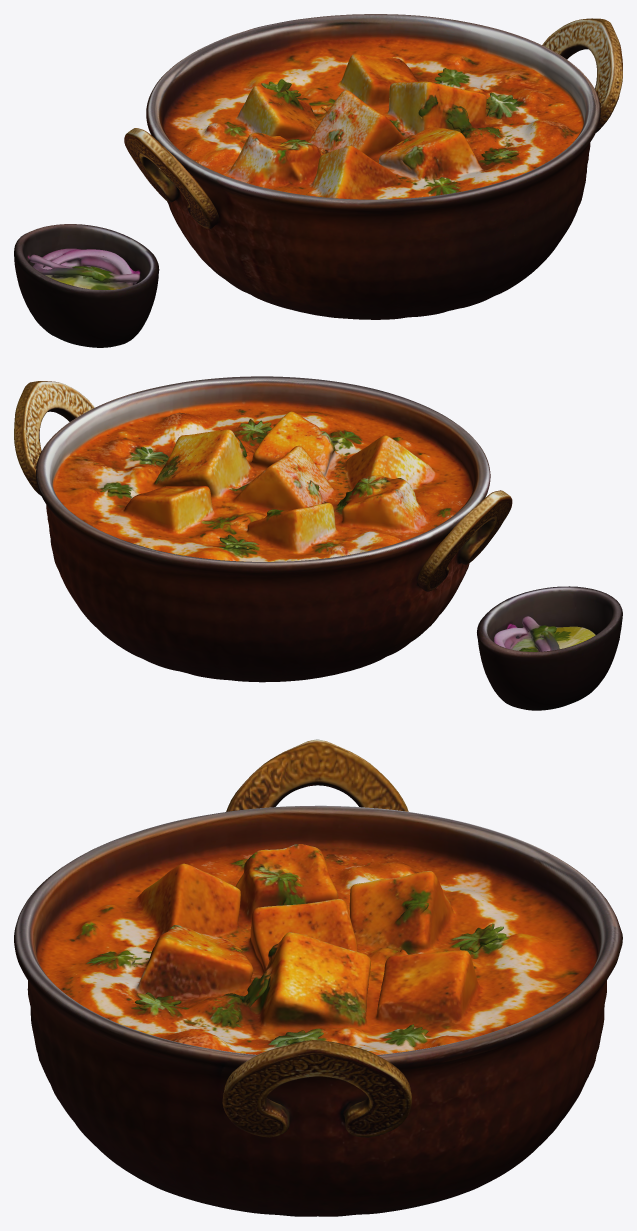
The model's file is paneer-butter-masala.glb.
3 renders of one model, top to bottom at view 1: azimuth 30°, elevation 25°; view 2: azimuth 150°, elevation 25°; view 3: azimuth 270°, elevation 25°, orthographic. The views are drawn at different scales.
Visible parts, largest first — view 1: tripo_node_bde0fbf5; view 2: tripo_node_bde0fbf5; view 3: tripo_node_bde0fbf5.
Boxes of the visible parts, x1,y1,x2,y2 form: tripo_node_bde0fbf5: (14, 14, 622, 347); tripo_node_bde0fbf5: (14, 376, 622, 710); tripo_node_bde0fbf5: (14, 739, 622, 1216).
Size of the model in its own units: 0.24 by 0.0717 by 0.1625.
1 material, 1 textured.
